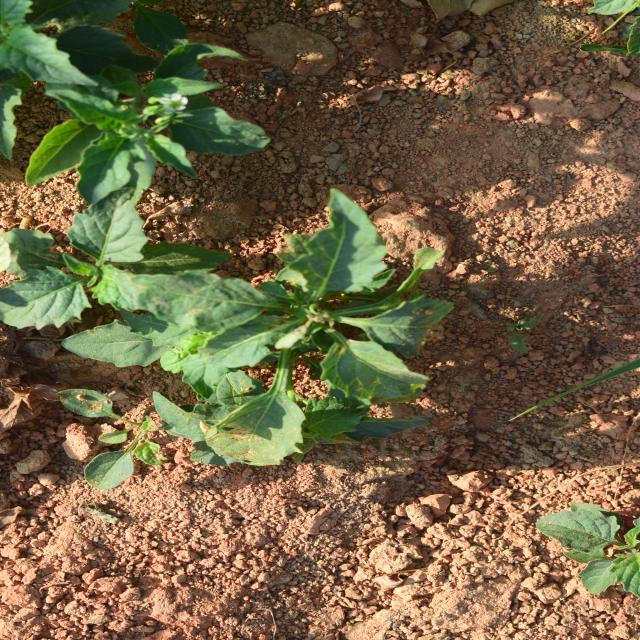Black_nightshade: (191, 145, 422, 450), (454, 10, 614, 252), (298, 0, 452, 204)
